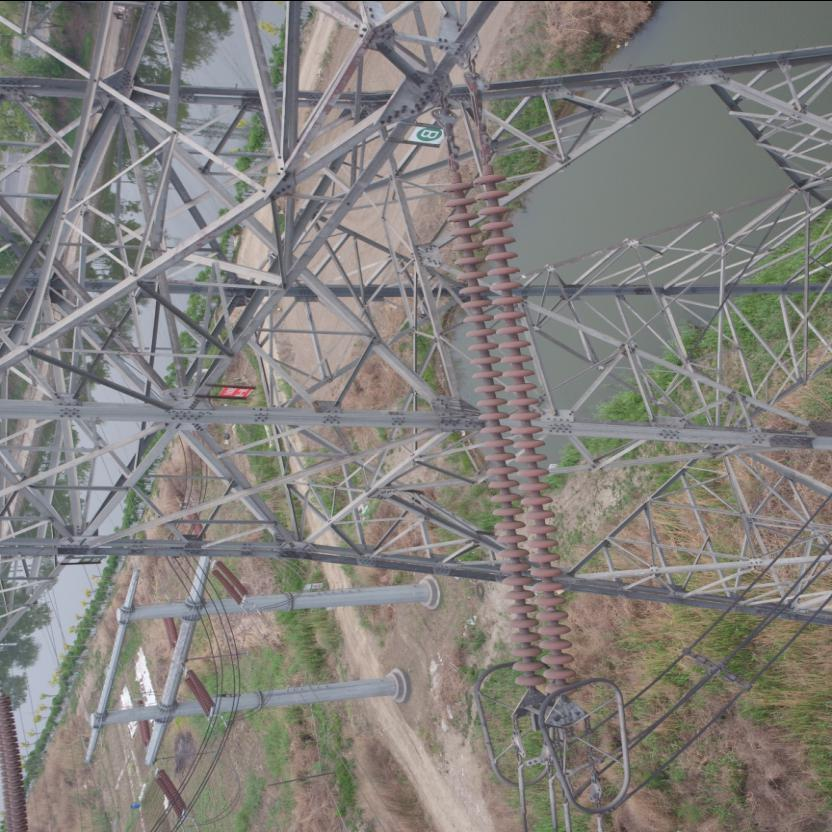insulator: (436, 131, 578, 710), (0, 683, 31, 831)
